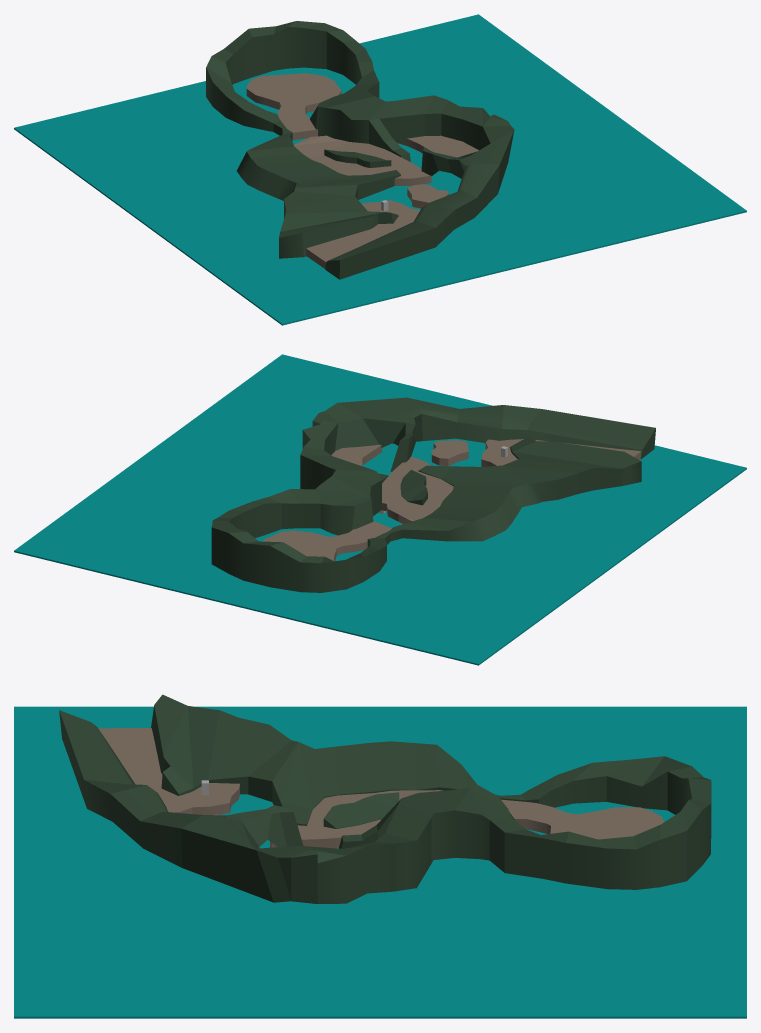
File: Waterpath.fbx
The picture shows the model from 3 angles, top to bottom: view 1: azimuth 30°, elevation 25°; view 2: azimuth 150°, elevation 25°; view 3: azimuth 270°, elevation 25°; orthographic projection. The views are drawn at different scales.
Parts seen in each view (by area): view 1: pasted__pPlane1, paredes, suelo, pared_medio; view 2: pasted__pPlane1, paredes, suelo, pared_medio; view 3: pasted__pPlane1, paredes, suelo, pared_medio.
Boxes of the visible parts, x1,y1,x2,y2 form: pasted__pPlane1: (14, 14, 746, 325); paredes: (206, 21, 514, 279); suelo: (246, 73, 478, 268); pared_medio: (324, 149, 391, 167); pasted__pPlane1: (14, 354, 746, 665); paredes: (211, 397, 655, 592); suelo: (263, 439, 641, 561); pared_medio: (400, 470, 427, 505); pasted__pPlane1: (14, 706, 746, 1018); paredes: (59, 694, 711, 903); suelo: (98, 728, 663, 848); pared_medio: (323, 792, 399, 828).
Bounding box in the file's own units: 32.72 × 4.3 × 32.72.
